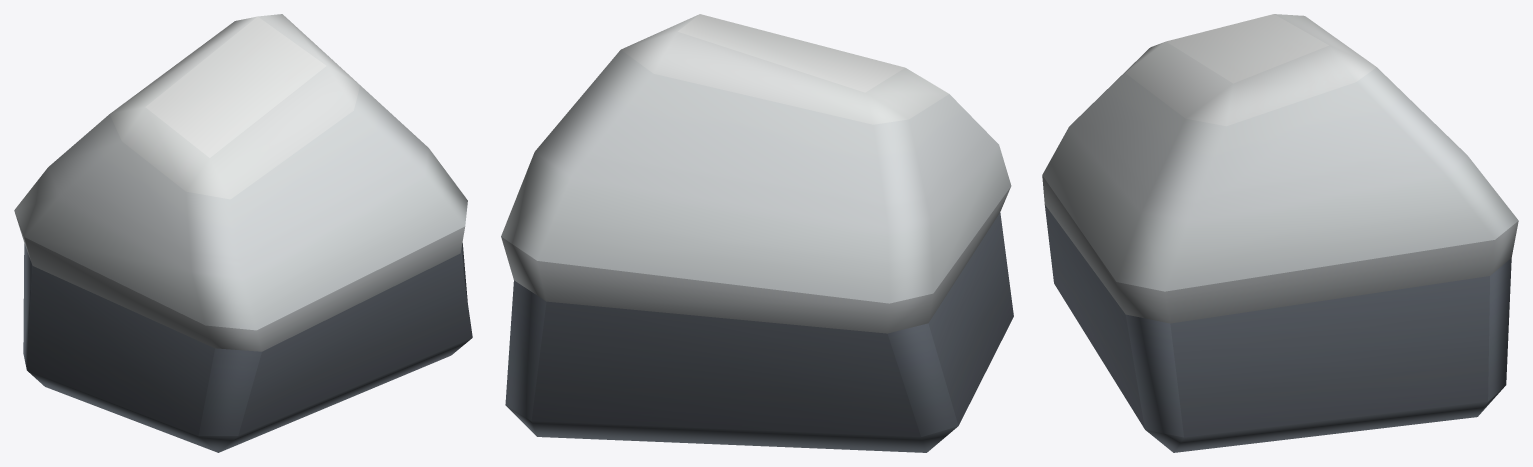
Rendered from rock_snow_022.fbx.
The picture shows the model from 3 angles, left to right: view 1: azimuth 30°, elevation 25°; view 2: azimuth 150°, elevation 25°; view 3: azimuth 270°, elevation 25°; orthographic projection. The views are drawn at different scales.
Parts seen in each view (by area): view 1: rock_snow_022; view 2: rock_snow_022; view 3: rock_snow_022.
Boxes of the visible parts, x1,y1,x2,y2 form: rock_snow_022: (14, 14, 472, 452); rock_snow_022: (501, 14, 1013, 452); rock_snow_022: (1042, 14, 1518, 452).
Bounding box in the file's own units: 114 × 90.22 × 114.
